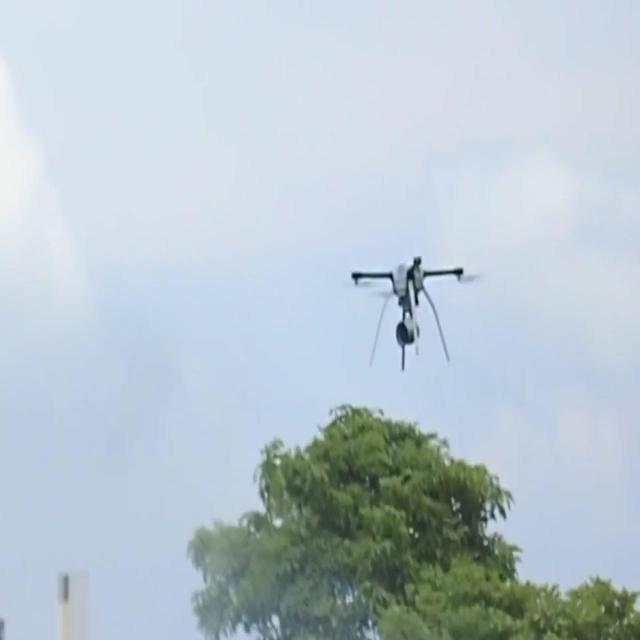UAV: (348, 256, 472, 371)
